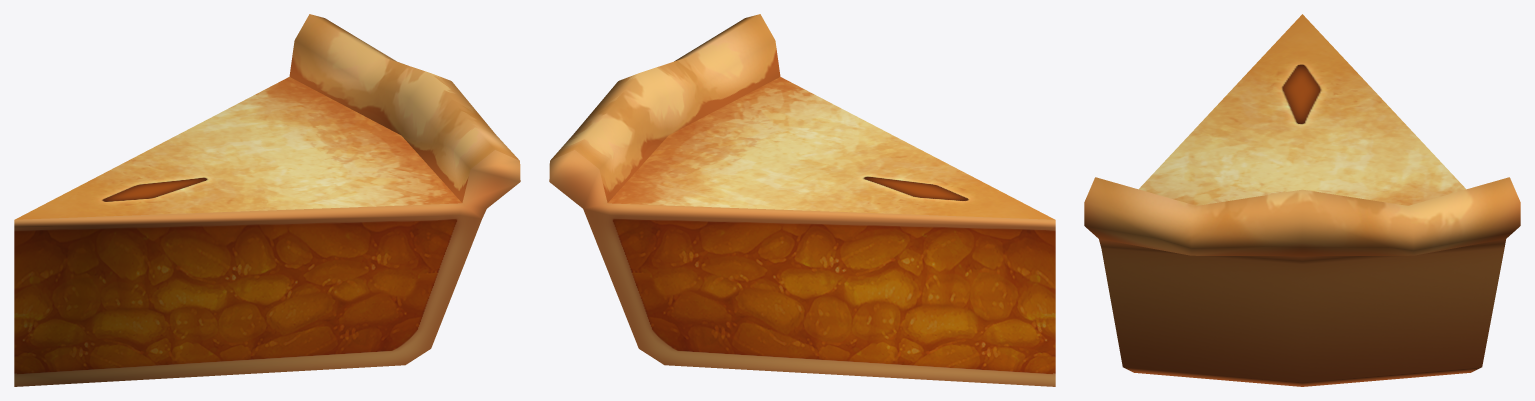
The model's file is Pie_Apple.fbx.
3 renders of one model, left to right at view 1: azimuth 30°, elevation 25°; view 2: azimuth 150°, elevation 25°; view 3: azimuth 270°, elevation 25°, orthographic. The views are drawn at different scales.
Visible parts, largest first — view 1: Pie_Apple; view 2: Pie_Apple; view 3: Pie_Apple.
Boxes of the visible parts, x1=… form: Pie_Apple: x1=14, y1=14, x2=520, y2=386; Pie_Apple: x1=549, y1=14, x2=1055, y2=386; Pie_Apple: x1=1084, y1=14, x2=1520, y2=386.
Bounding box in the file's own units: 47.9 × 22.22 × 36.97.
